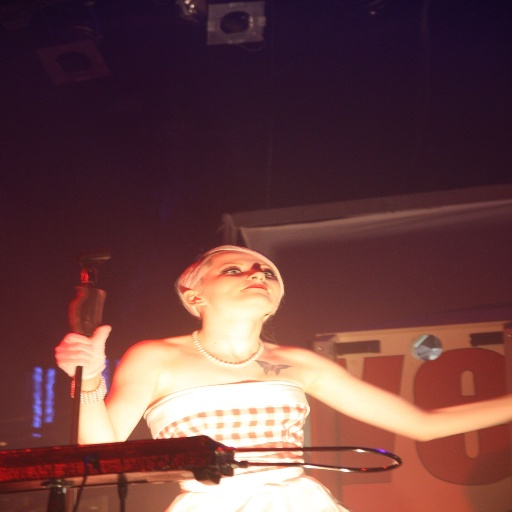hand: (50, 329, 113, 380)
